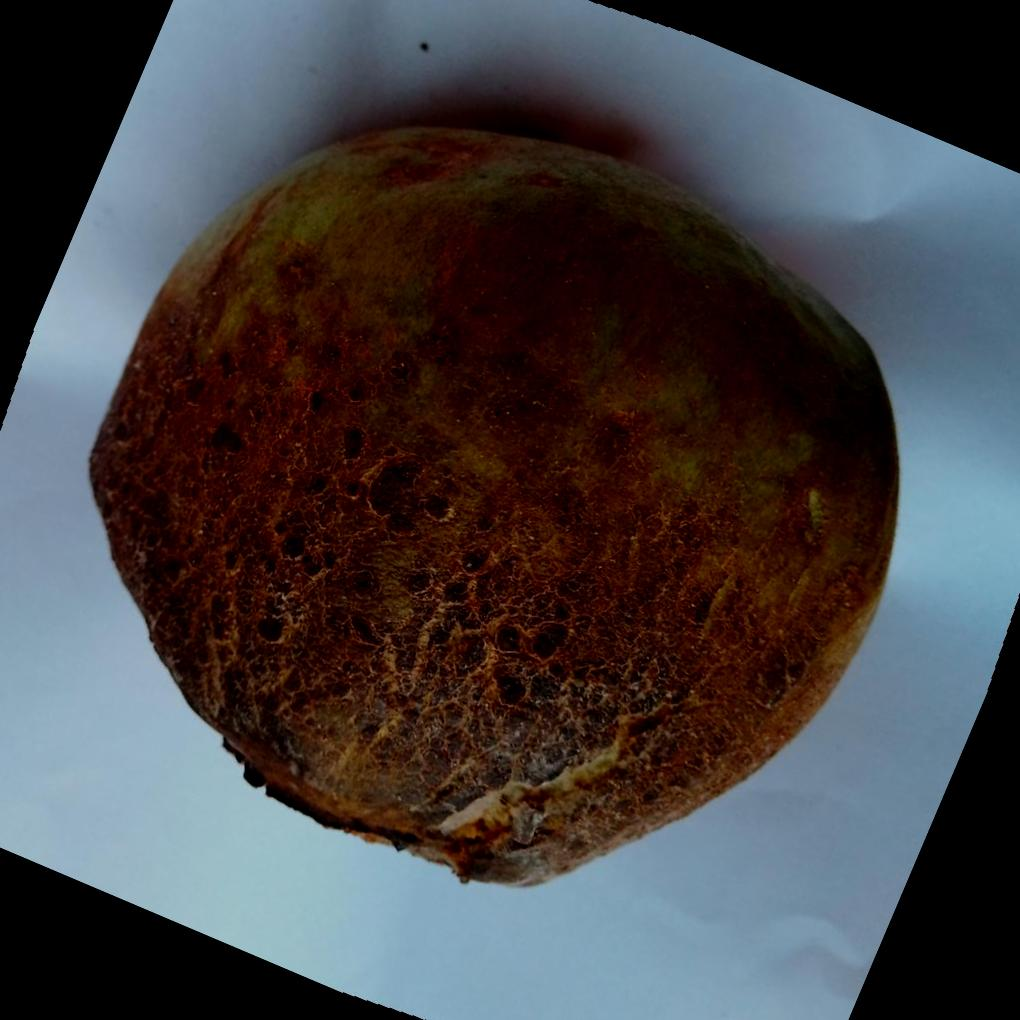FreshOrange: (89, 122, 905, 890)
